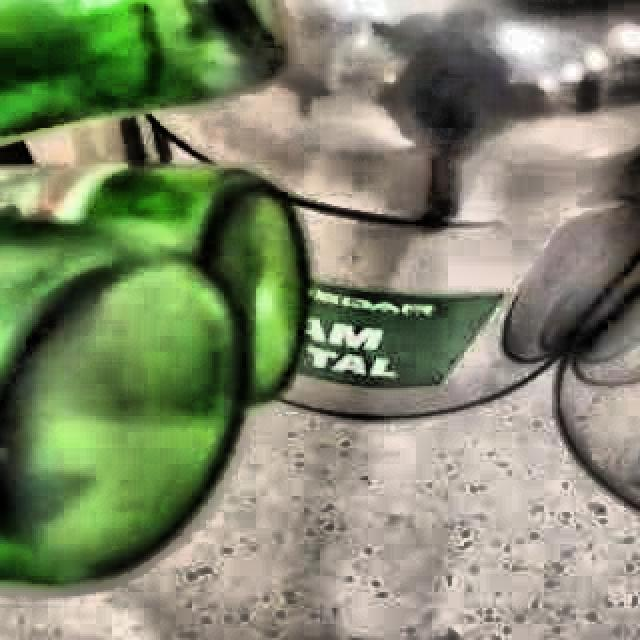glass: (0, 167, 307, 588)
